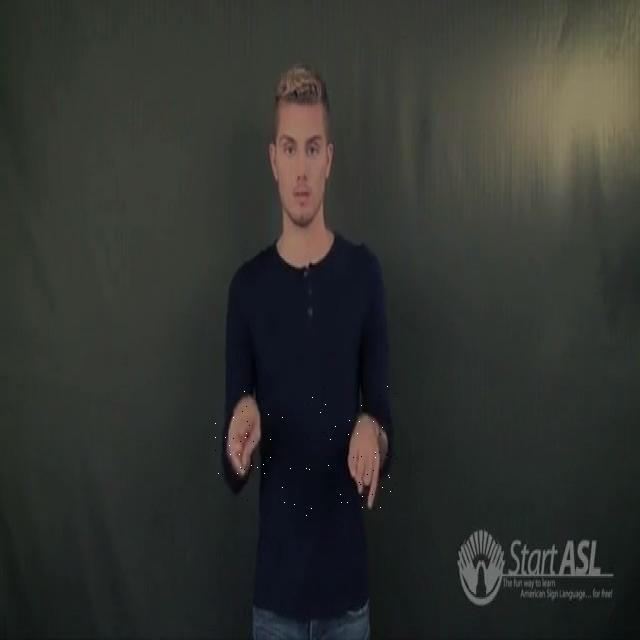eggs: (214, 386, 398, 521)
